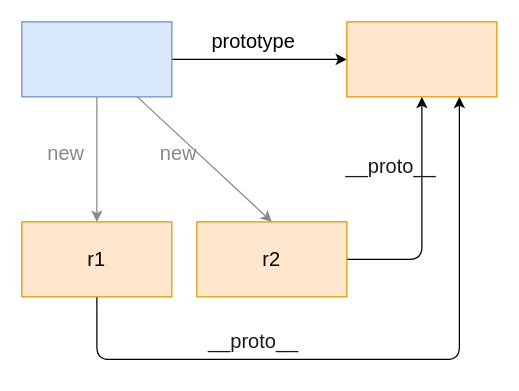
This 519x391 diagram has some shape labels left out. Here are the shapes that lost their labels. From the top down, the box of each, then its label:
(21, 21, 172, 97): Rabbit total: 2
(346, 21, 497, 97): jump
